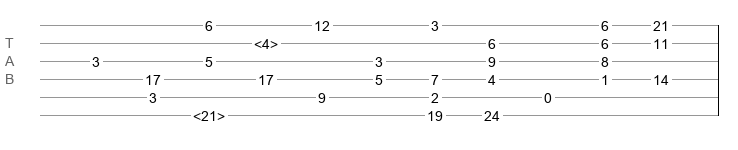0: (544, 90, 552, 100)
1: (601, 72, 609, 82)
11: (653, 36, 669, 46)
12: (314, 18, 330, 28)
14: (653, 72, 669, 82)
17: (145, 72, 161, 82), (258, 72, 274, 82)
19: (427, 108, 443, 118)
2: (431, 90, 439, 100)
21: (653, 18, 669, 28)
24: (484, 108, 500, 118)
3: (92, 54, 100, 64), (149, 90, 157, 100), (375, 54, 383, 64), (431, 18, 439, 28)
4: (488, 72, 496, 82)
5: (205, 54, 213, 64), (375, 72, 383, 82)
6: (205, 18, 213, 28), (488, 36, 496, 46), (601, 18, 609, 28), (601, 36, 609, 46)
7: (431, 72, 439, 82)
8: (601, 54, 609, 64)
9: (318, 90, 326, 100), (488, 54, 496, 64)
harmonic: (193, 108, 225, 118), (254, 36, 278, 46)
